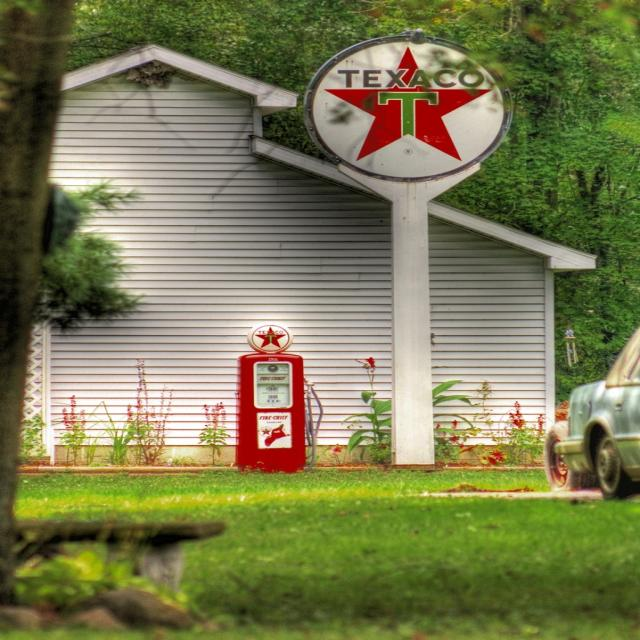texaco: (311, 42, 508, 180), (253, 326, 291, 352), (260, 428, 274, 437)
